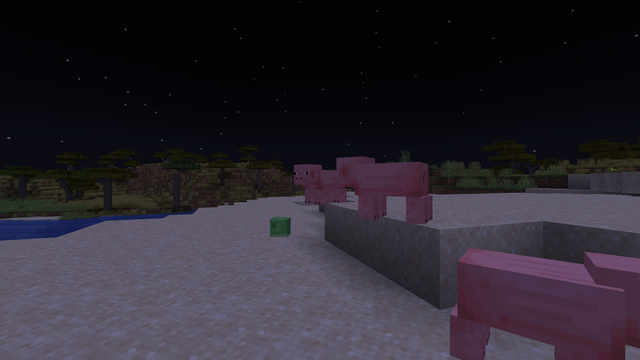cochons: (447, 245, 630, 359), (353, 159, 434, 223), (303, 168, 346, 204)
slimes: (270, 215, 291, 236)
